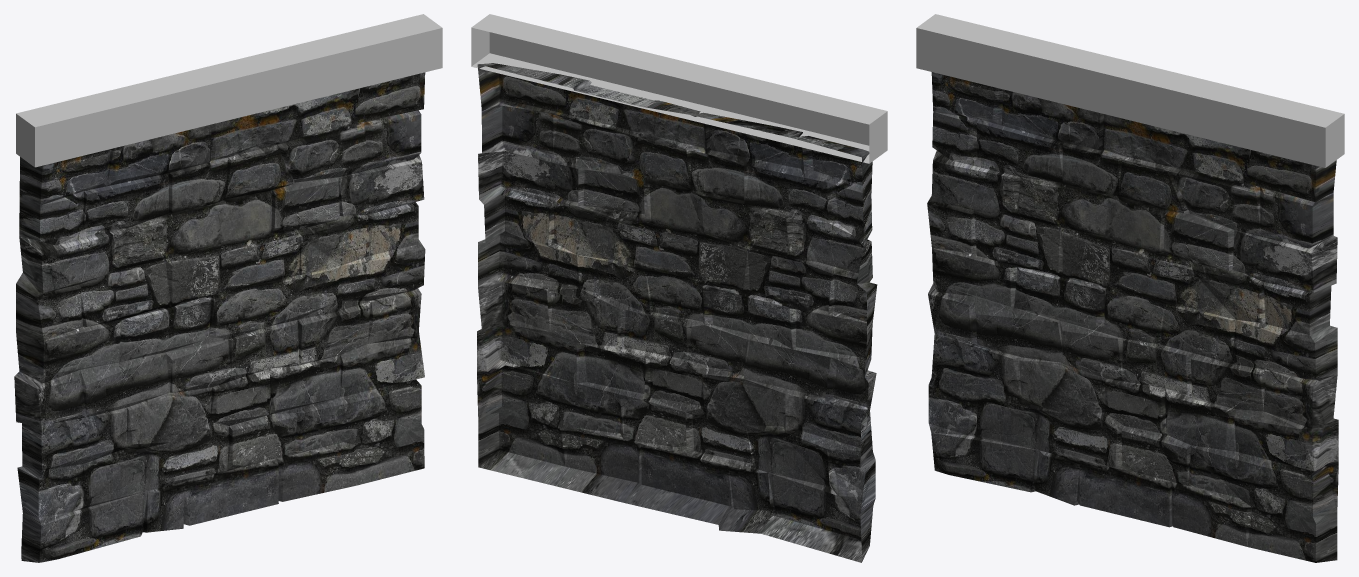
The model's file is Wall 3.fbx.
3 renders of one model, left to right at view 1: azimuth 30°, elevation 25°; view 2: azimuth 150°, elevation 25°; view 3: azimuth 330°, elevation 25°, orthographic. The views are drawn at different scales.
Parts seen in each view (by area): view 1: Wall 3; view 2: Wall 3; view 3: Wall 3.
Boxes of the visible parts, <box> form: Wall 3: <box>14,14,442,562</box>; Wall 3: <box>471,14,887,562</box>; Wall 3: <box>916,14,1344,562</box>.
Bounding box in the file's own units: 1034 × 1092 × 96.13.
